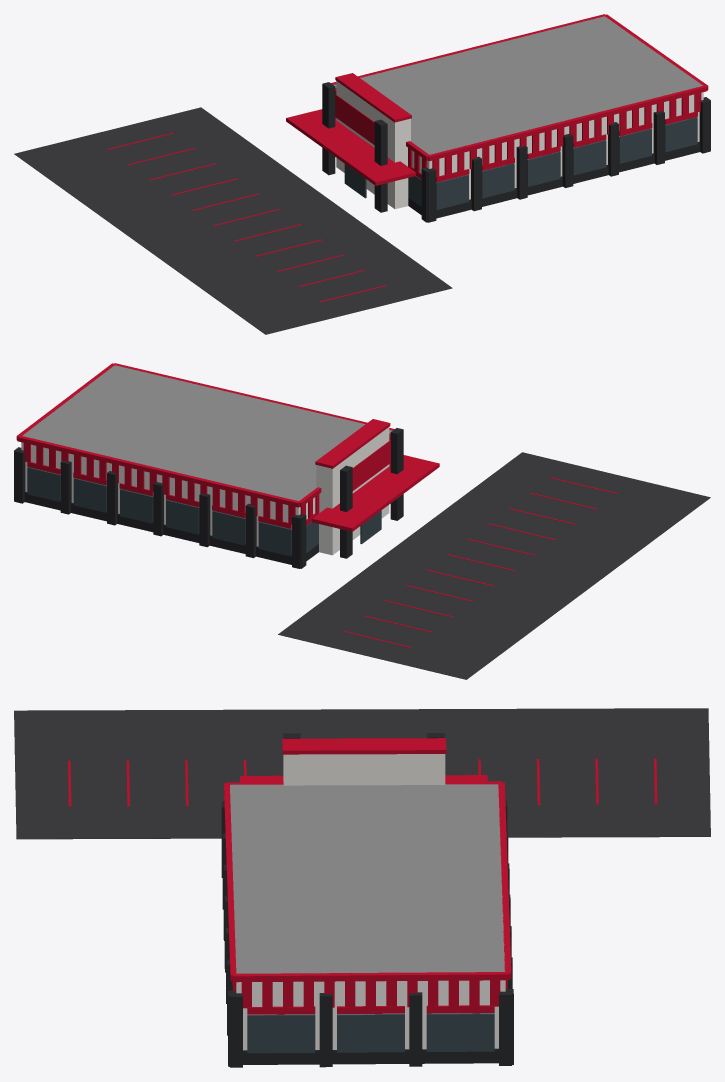
File: kfc3.glb
3 views of the same model, one above another, from view 1: azimuth 30°, elevation 25°; view 2: azimuth 150°, elevation 25°; view 3: azimuth 270°, elevation 25° (orthographic). The views are drawn at different scales.
Visible parts, largest first — view 1: kfc3_lod0; view 2: kfc3_lod0; view 3: kfc3_lod0.
Boxes of the visible parts, x1,y1,x2,y2 form: kfc3_lod0: (14,14,710,334); kfc3_lod0: (14,363,710,679); kfc3_lod0: (14,708,710,1067).
Size of what is drawn, in the model's own units: 39.16 by 6.4 by 32.11.
